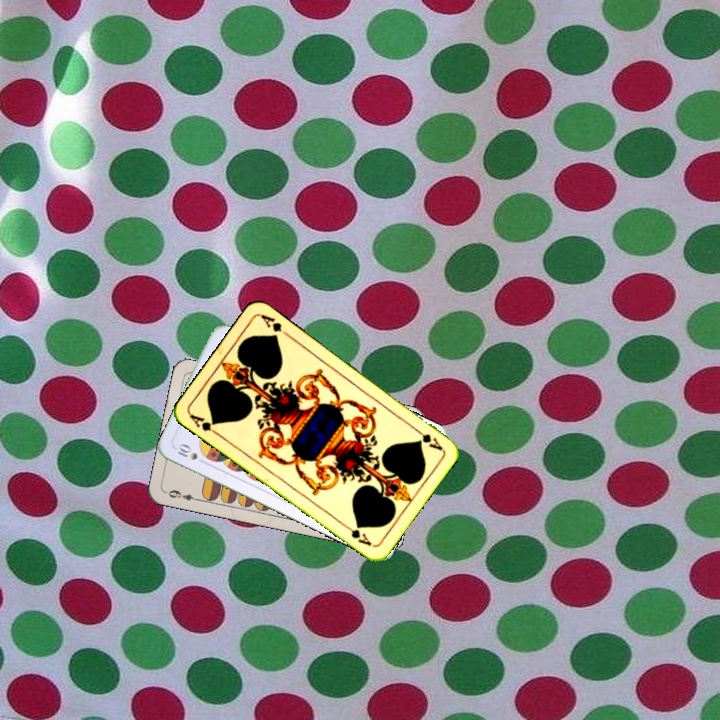E9: (164, 486, 202, 504)
GA: (410, 424, 445, 453), (186, 410, 222, 438)
S10: (171, 440, 200, 463)
